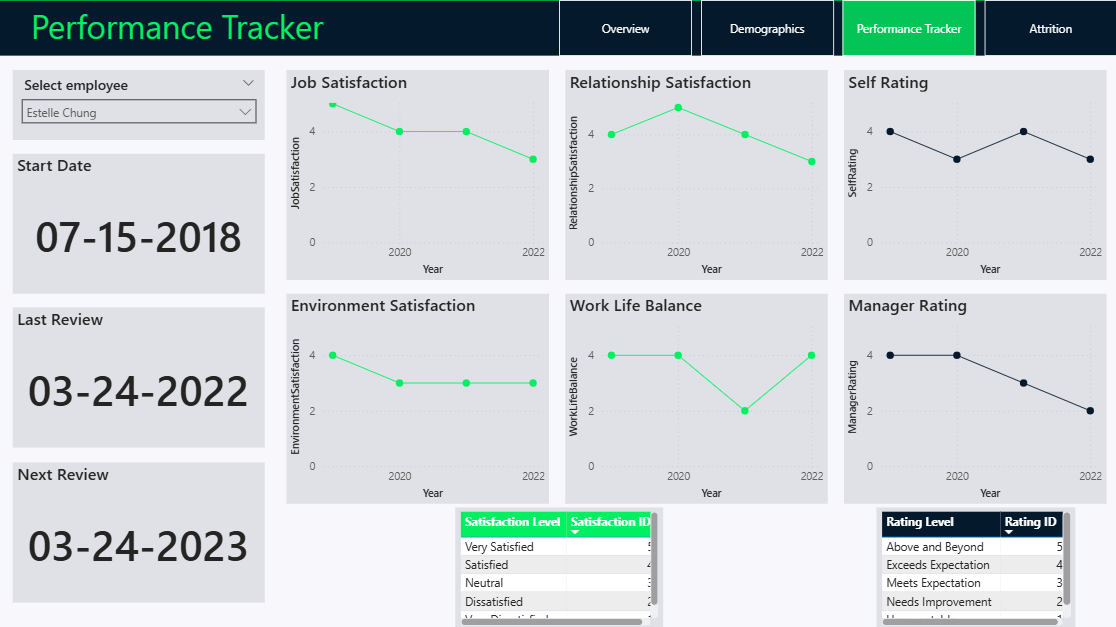

What the dashboard file says about the page in this screenshot:
{"tool":"powerbi","page":{"name":"Performance Tracker","canvas":[1280,720],"ordinal":2},"visuals":[{"type":"shape","box":[0,0,1280,64],"z":0},{"type":"textbox","box":[32,0,624,64],"z":1000},{"type":"pageNavigator","box":[640,0,640,64],"z":2000},{"type":"slicer","fields":{"Values":["DimEmployee.FullName"]},"box":[16,80,288,80],"z":3000},{"type":"card","title":"Start Date","fields":{"Values":["Min(DimEmployee.HireDate)"]},"box":[16,176,288,160],"z":4000},{"type":"card","title":"Last Review","fields":{"Values":["_Measures.LastReviewDate"]},"box":[16,352,288,160],"z":5000},{"type":"card","title":"Next Review","fields":{"Values":["_Measures.NextReviewDate"]},"box":[16,528,288,160],"z":6000},{"type":"lineChart","title":"Job Satisfaction","fields":{"Y":["_Measures.JobSatisfaction"],"Category":["DimDate.Year"]},"box":[328.3,79.8,300,240.3],"z":7000},{"type":"lineChart","title":"Relationship Satisfaction","fields":{"Y":["_Measures.RelationshipSatisfaction"],"Category":["DimDate.Year"]},"box":[646.9,79.8,300,240.3],"z":8000},{"type":"lineChart","title":"Self Rating","fields":{"Y":["_Measures.SelfRating"],"Category":["DimDate.Year"]},"box":[965.5,79.8,299.7,240.3],"z":9000},{"type":"lineChart","title":"Work Life Balance","fields":{"Y":["_Measures.WorkLifeBalance"],"Category":["DimDate.Year"]},"box":[647.4,335.5,299.7,240.3],"z":10000},{"type":"lineChart","title":"Manager Rating","fields":{"Y":["_Measures.ManagerRating"],"Category":["DimDate.Year"]},"box":[965.5,335.5,299.7,240.3],"z":11000},{"type":"lineChart","title":"Environment Satisfaction","fields":{"Y":["_Measures.EnvironmentSatisfaction"],"Category":["DimDate.Year"]},"box":[328.3,335.5,300,240.3],"z":12000},{"type":"tableEx","fields":{"Values":["DimRatingLevel.RatingLevel","DimRatingLevel.RatingID"]},"box":[1002.3,579.9,227,140.1],"z":13000},{"type":"tableEx","fields":{"Values":["DimSatisfiedLevel.SatisfactionLevel","DimSatisfiedLevel.SatisfactionID"]},"box":[521.6,579.9,237.3,140.1],"z":14000}]}

Visuals, with their boxes in screenshot pixels (x1, y1, x2, y2), scaled from the page's 1280x720 canvas onto the 1116x627 screenshot:
shape: select_region(0, 0, 1115, 56)
textbox: select_region(28, 0, 572, 56)
pageNavigator: select_region(558, 0, 1115, 56)
slicer - DimEmployee.FullName: select_region(14, 70, 265, 139)
"Start Date" card: select_region(14, 153, 265, 293)
"Last Review" card: select_region(14, 307, 265, 446)
"Next Review" card: select_region(14, 460, 265, 599)
"Job Satisfaction" lineChart: select_region(286, 69, 548, 279)
"Relationship Satisfaction" lineChart: select_region(564, 69, 826, 279)
"Self Rating" lineChart: select_region(842, 69, 1103, 279)
"Work Life Balance" lineChart: select_region(564, 292, 826, 501)
"Manager Rating" lineChart: select_region(842, 292, 1103, 501)
"Environment Satisfaction" lineChart: select_region(286, 292, 548, 501)
tableEx - DimRatingLevel.RatingLevel x DimRatingLevel.RatingID: select_region(874, 505, 1072, 626)
tableEx - DimSatisfiedLevel.SatisfactionLevel x DimSatisfiedLevel.SatisfactionID: select_region(455, 505, 662, 626)
